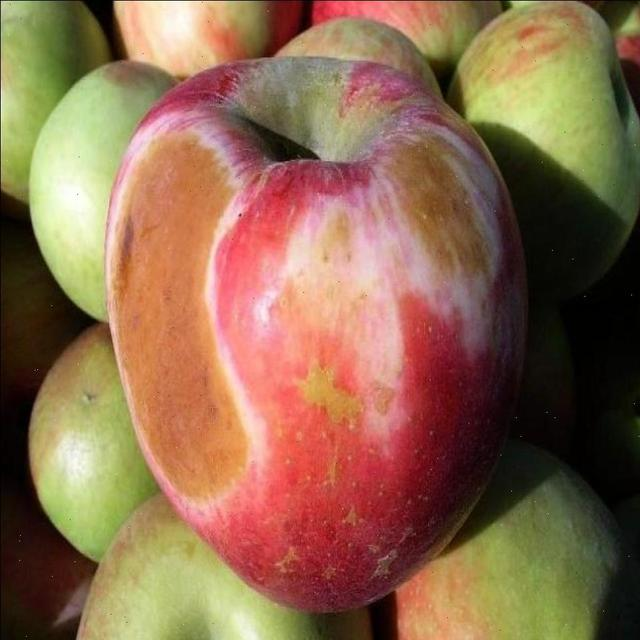Sunscald Fruit: (68, 79, 177, 350)
